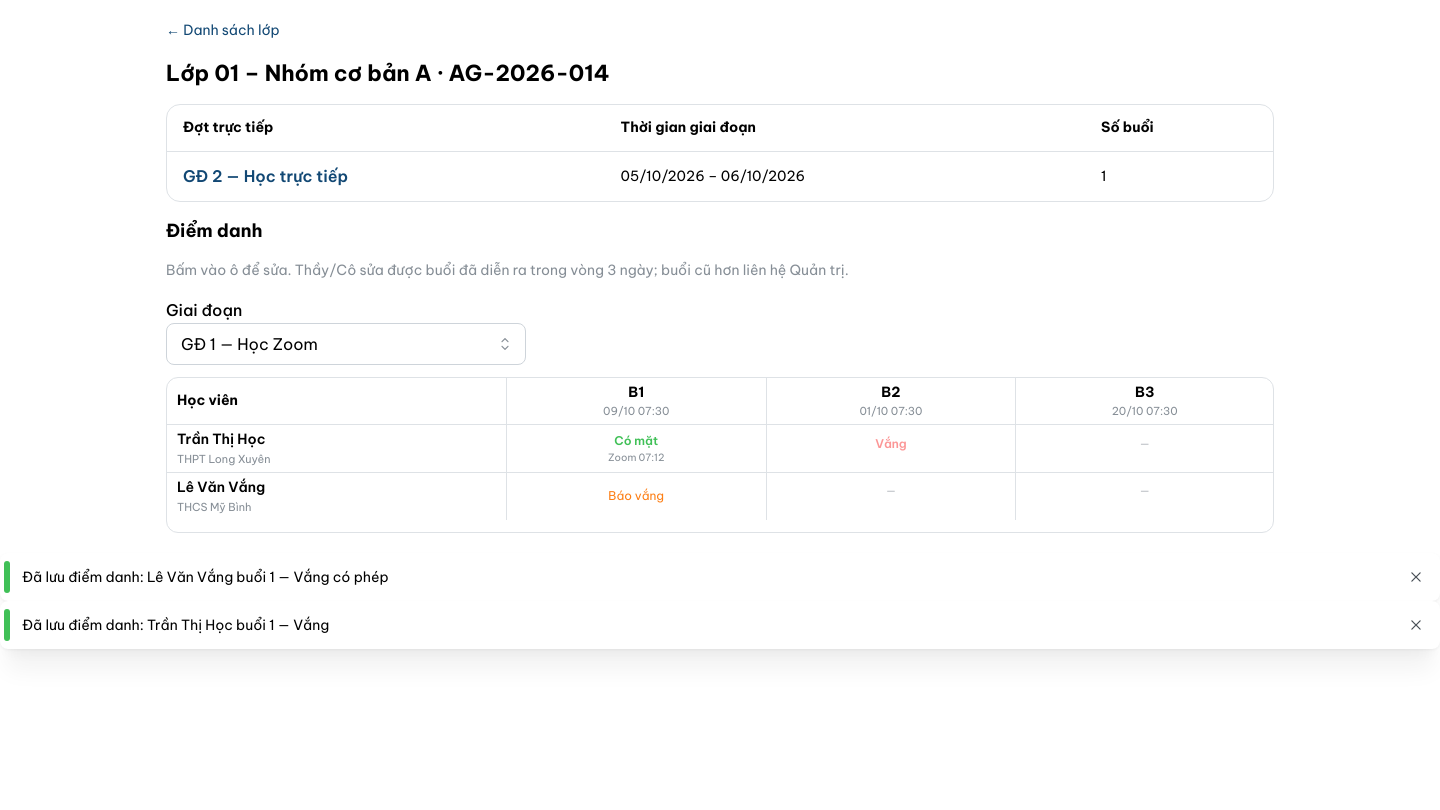
Hỗ trợ GV — bảng điểm danh lớp › API từ chối (403) → hiện thông điệp lỗi, popover vẫn mở
Click the button with aria-label "Sửa điểm danh Trần Thị Học buổi 1" at (636, 449), box [509,428,764,470]
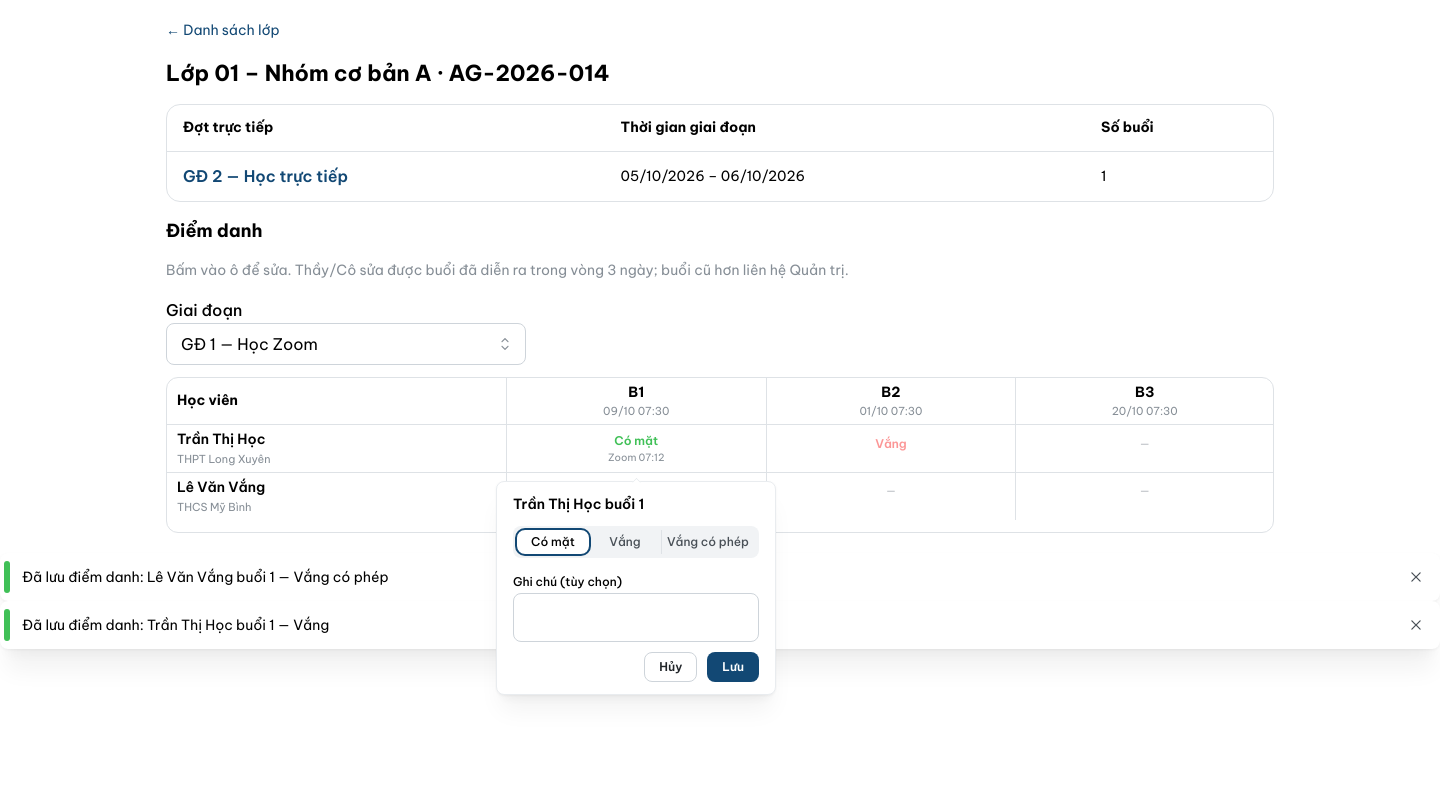
Click the button "Lưu" at (733, 667), box [708,652,759,682]
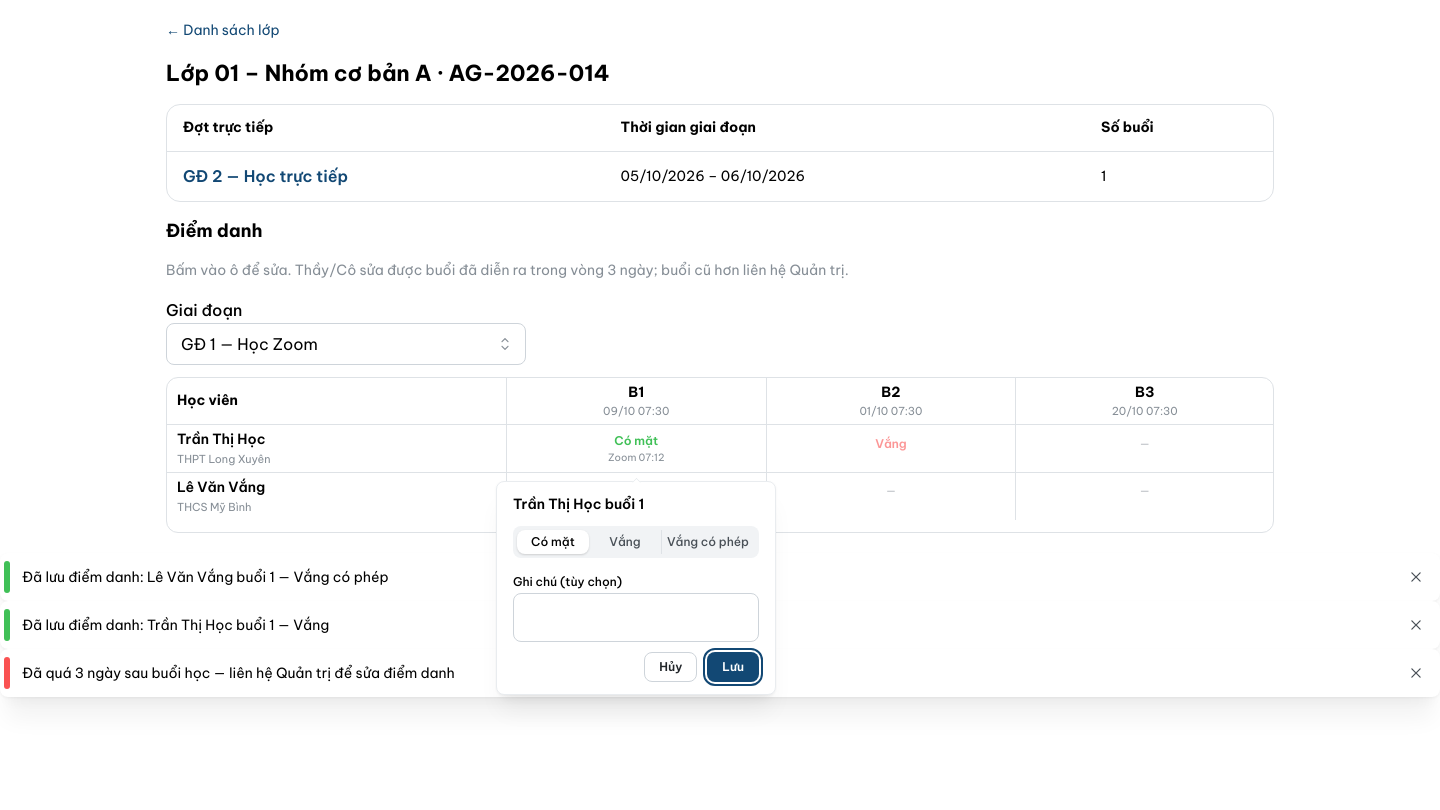
Check: the button "Lưu" is shown, box [708,652,759,682]
Check: the text "Đã quá 3 ngày sau buổi học — liên hệ Quản trị để sửa điểm danh" is shown, box [22,664,455,682]
